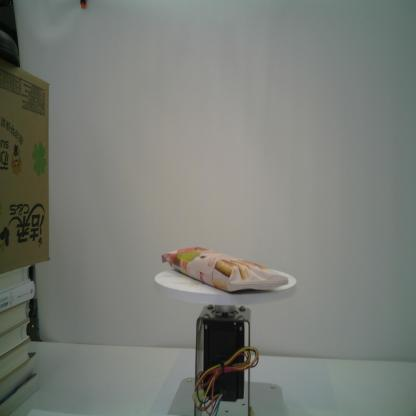Dessert: (160, 243, 289, 293)
